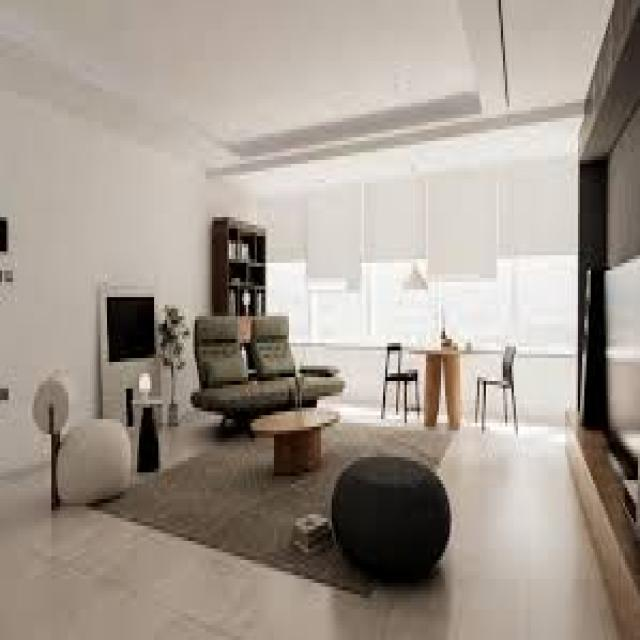Chair: (476, 336, 524, 435), (372, 333, 423, 425)
Sofa: (191, 314, 350, 432)
Table: (247, 404, 343, 470), (415, 339, 473, 433)
tv: (600, 260, 640, 476)
window: (264, 203, 577, 324)
